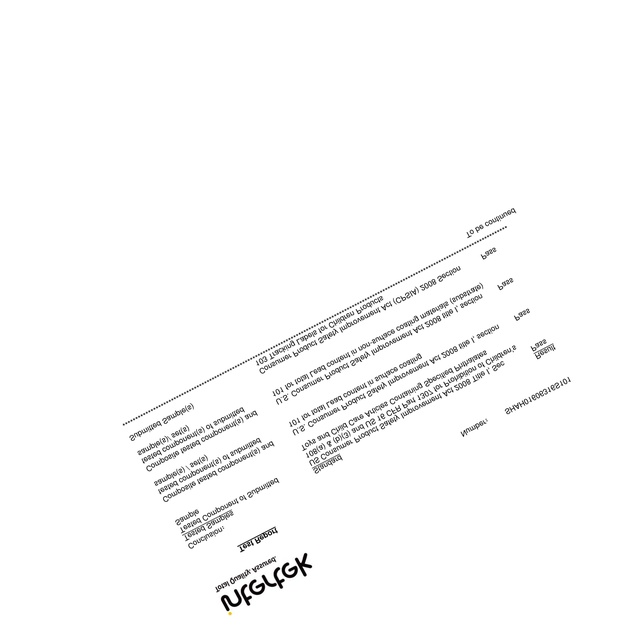intertek: (221, 548, 312, 615)
